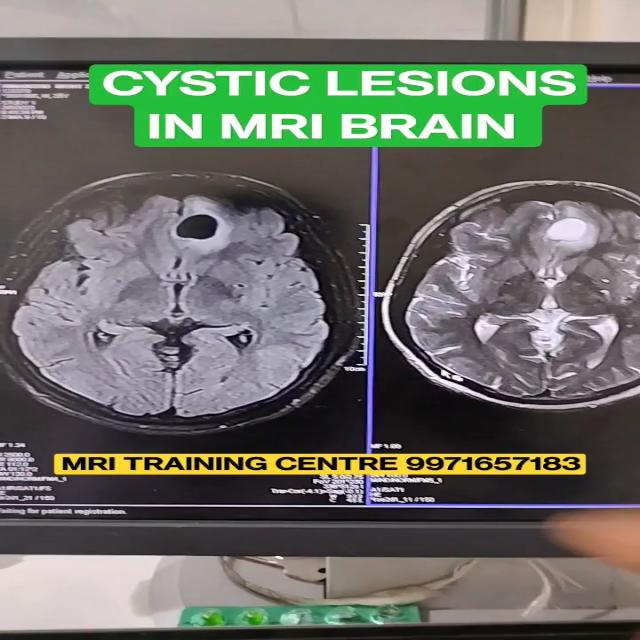tumor: (522, 205, 625, 260), (158, 202, 246, 262)
